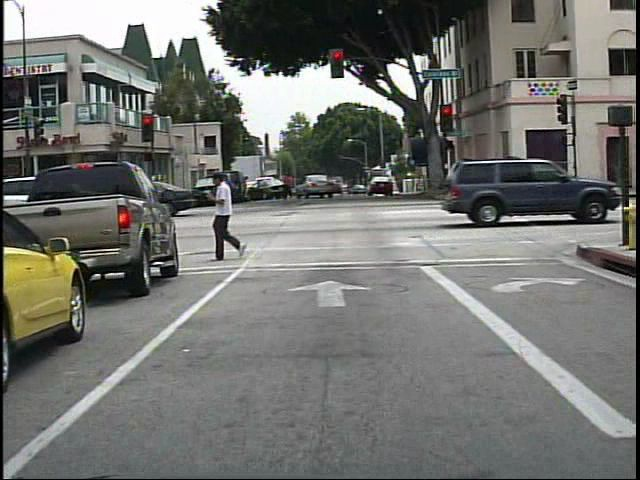person: (206, 168, 252, 263), (278, 164, 298, 207)
